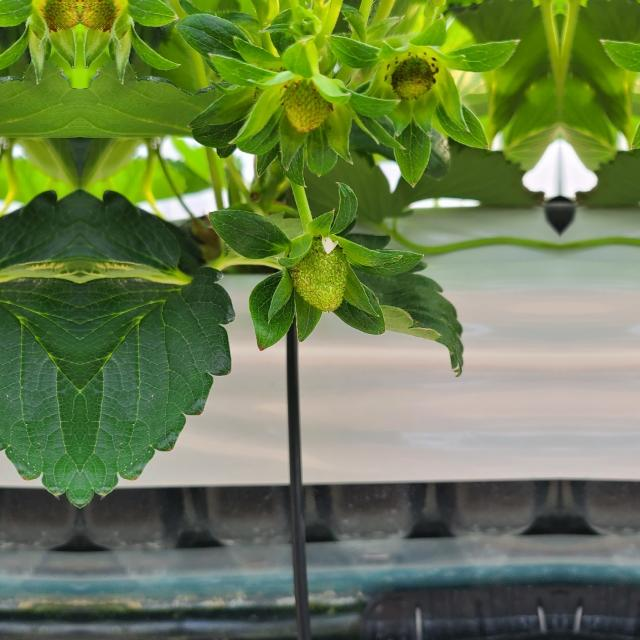Health_25: (271, 65, 347, 147), (382, 37, 446, 114), (290, 239, 348, 311)
